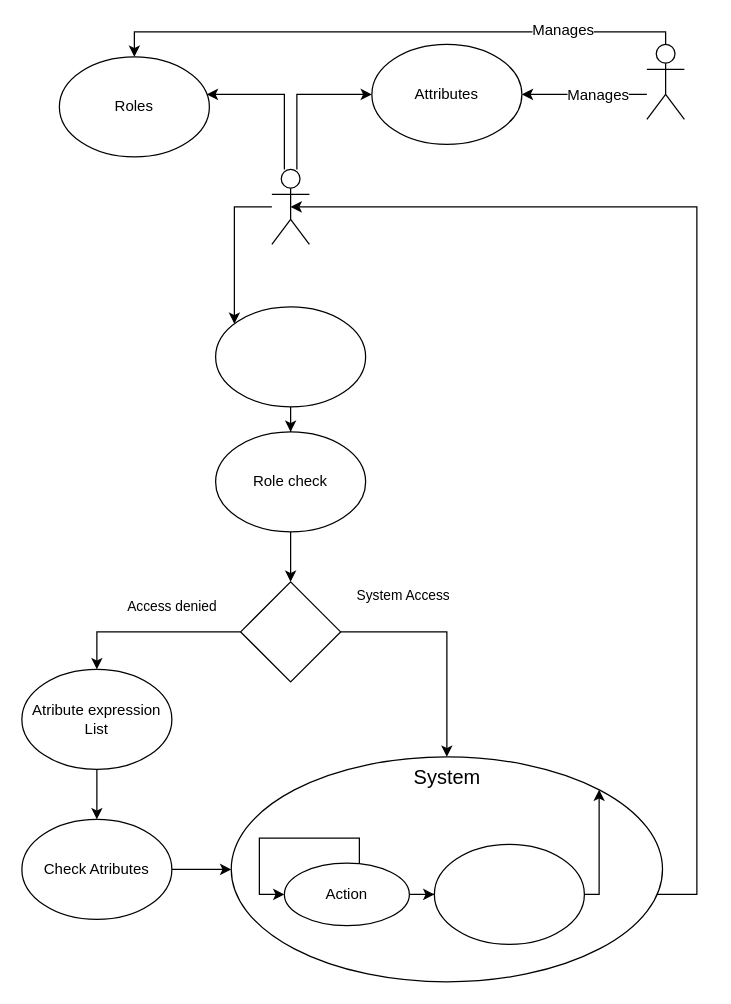
This 731x1004 diagram has some shape labels left out. The centre of each missing label's shape, as x and y in pixels:
"Administrator" goes at pixel 665 81.
"Change Subsystem" goes at pixel 508 893.
"Role List" goes at pixel 290 356.
"User" goes at pixel 290 206.
